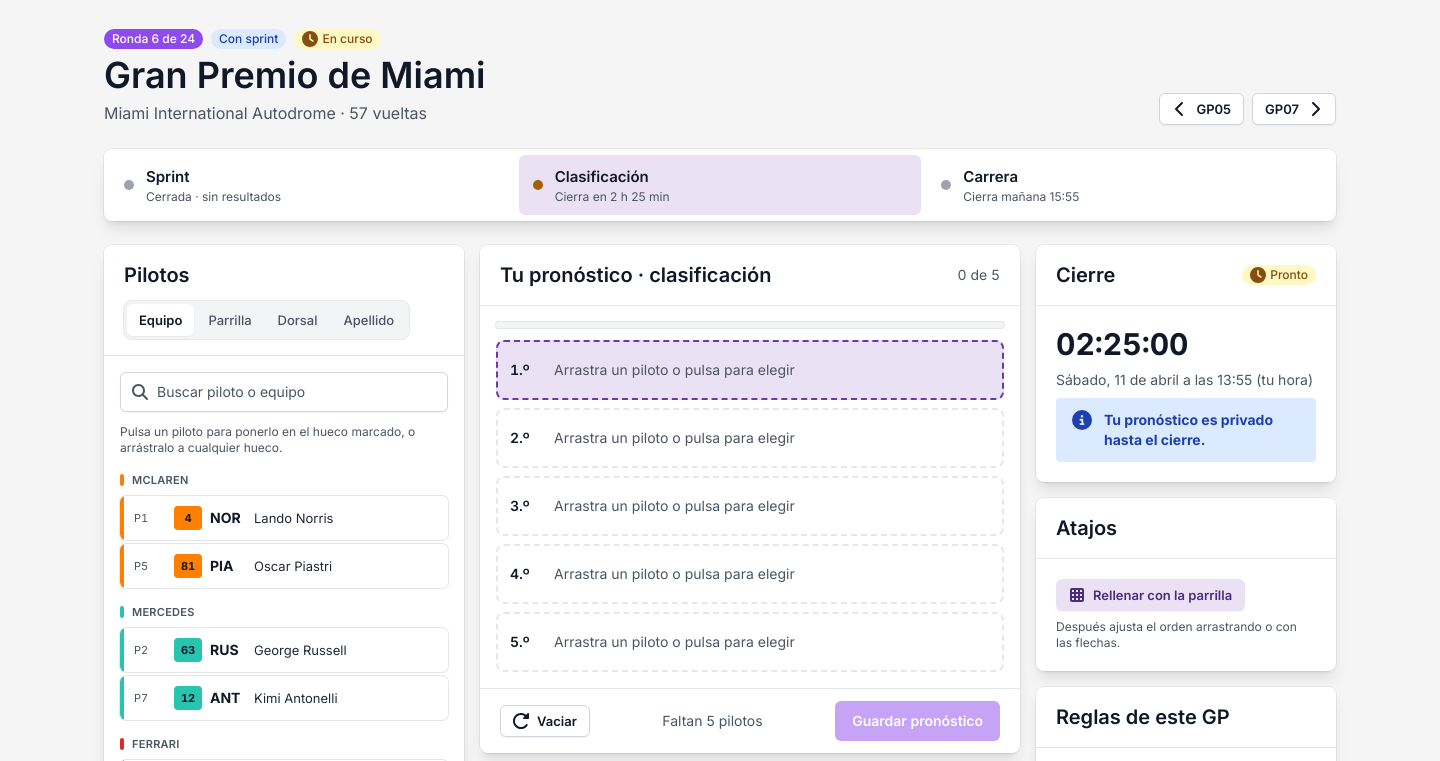
Test: Predict (G3) › clicking a driver fills the active slot and jumps to the next empty one
What coordinates should you click on to do the following:
click the button "P1 4 NOR Lando Norris"
I would click on:
 (284, 518)
Its box is [120,496,448,540].
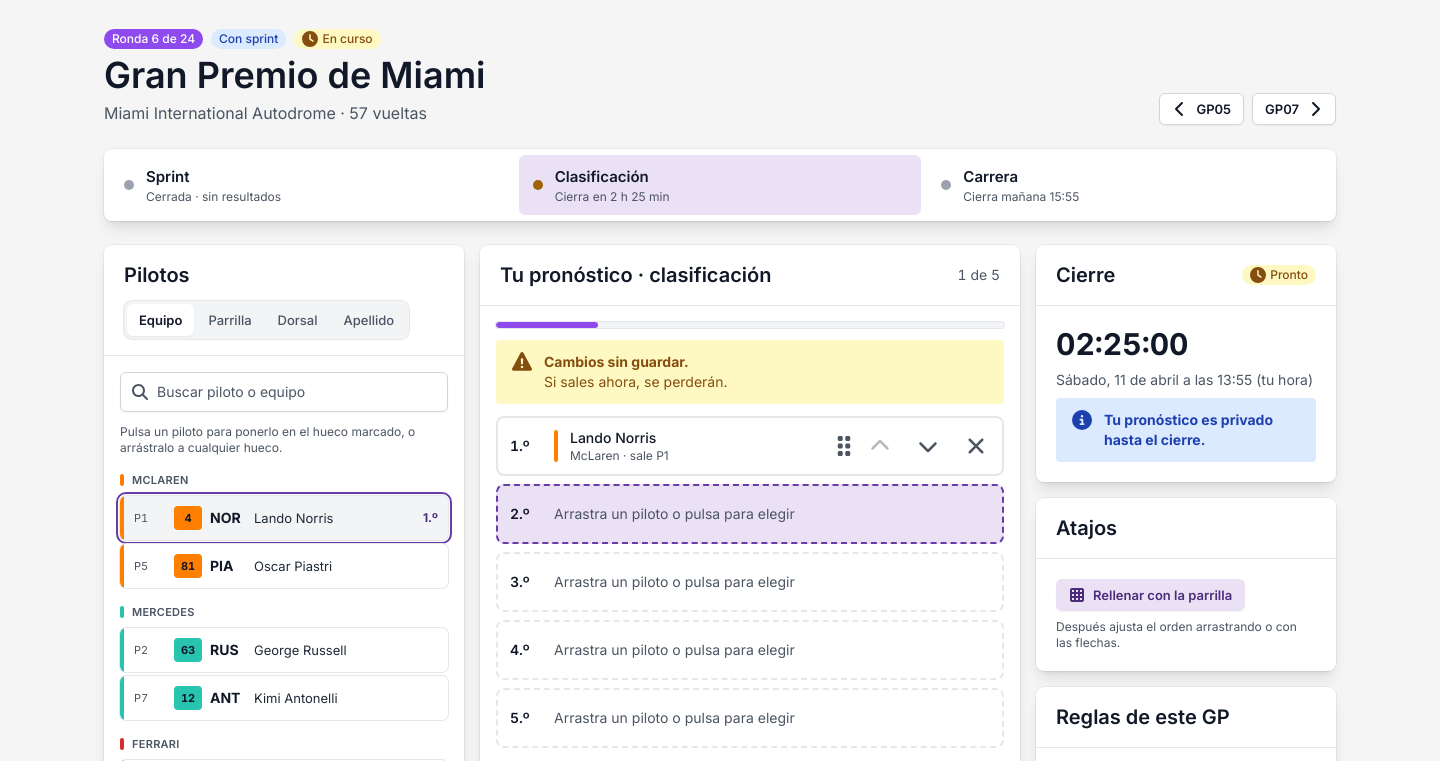
What coordinates should you click on to do the following:
click the button "P2 63 RUS George Russell"
I would click on:
 (284, 650)
Its box is [120,628,448,672].
(page scrolled)
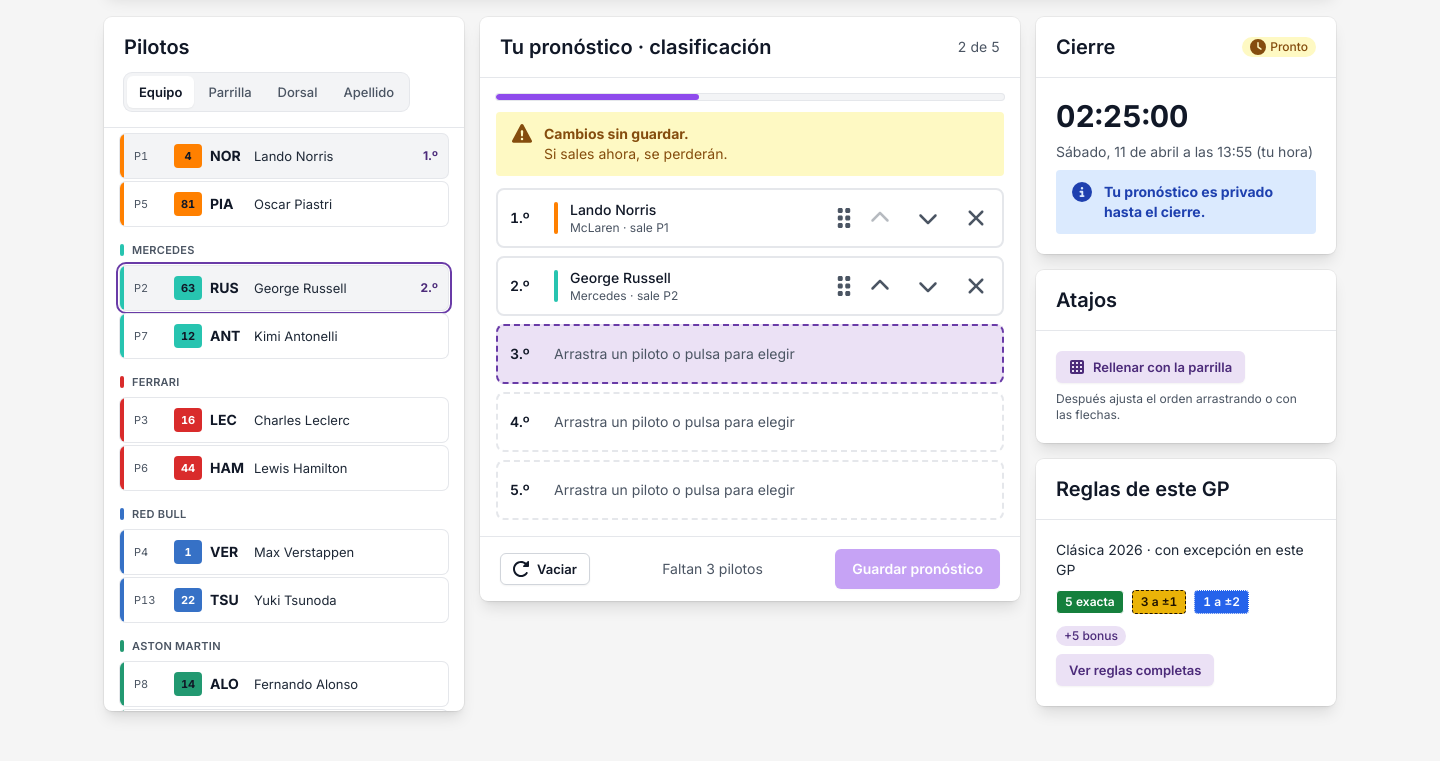
Expected: the text "Cambios sin guardar." is shown, [544,125,689,142]
Expected: the text "Faltan 3 pilotos" is shown, [662,559,763,579]
What coordinates should you click on to do the following:
click the button "P3 16 LEC Charles Leclerc"
I would click on:
 (284, 420)
Its box is [120,398,448,442].
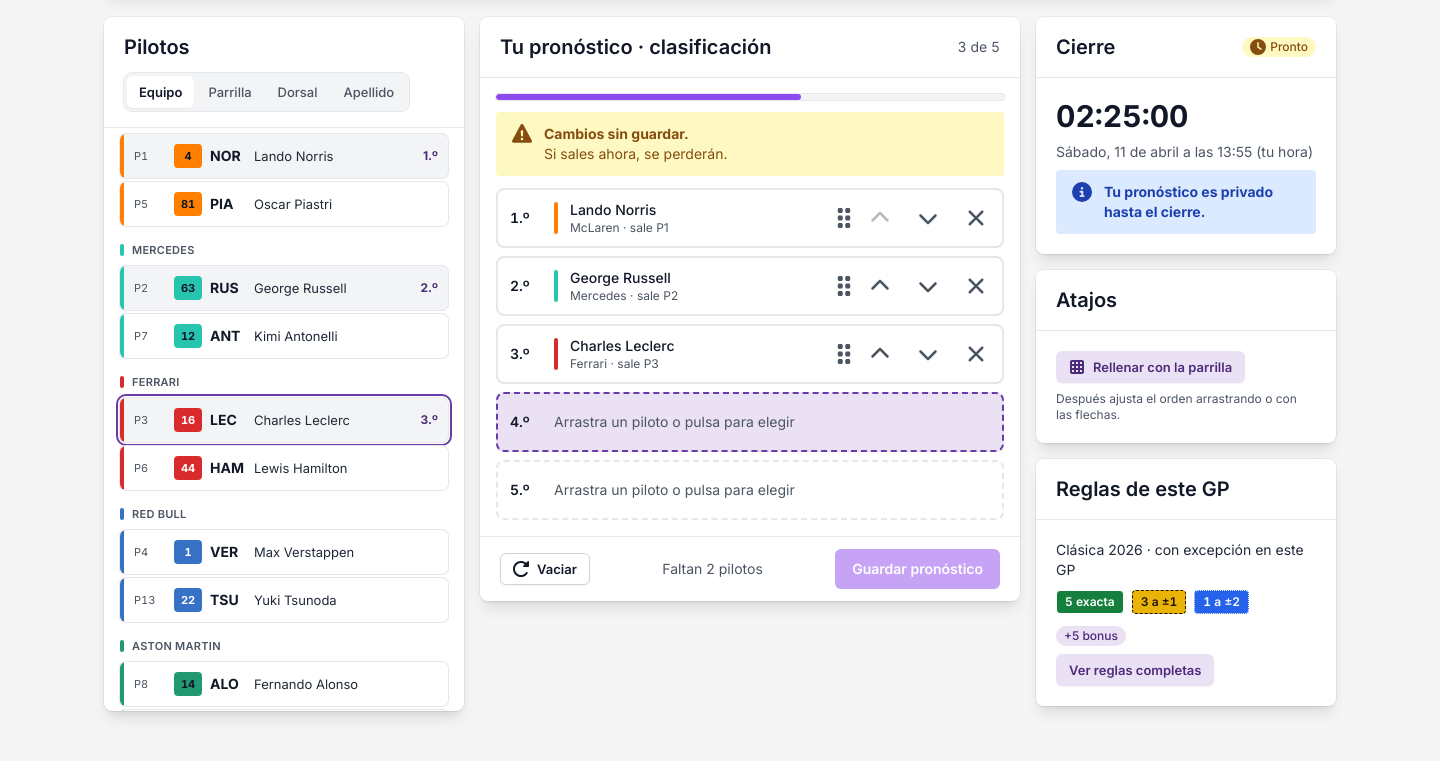
What coordinates should you click on to do the following:
click the button "P4 1 VER Max Verstappen"
I would click on:
 (284, 552)
Its box is [120,530,448,574].
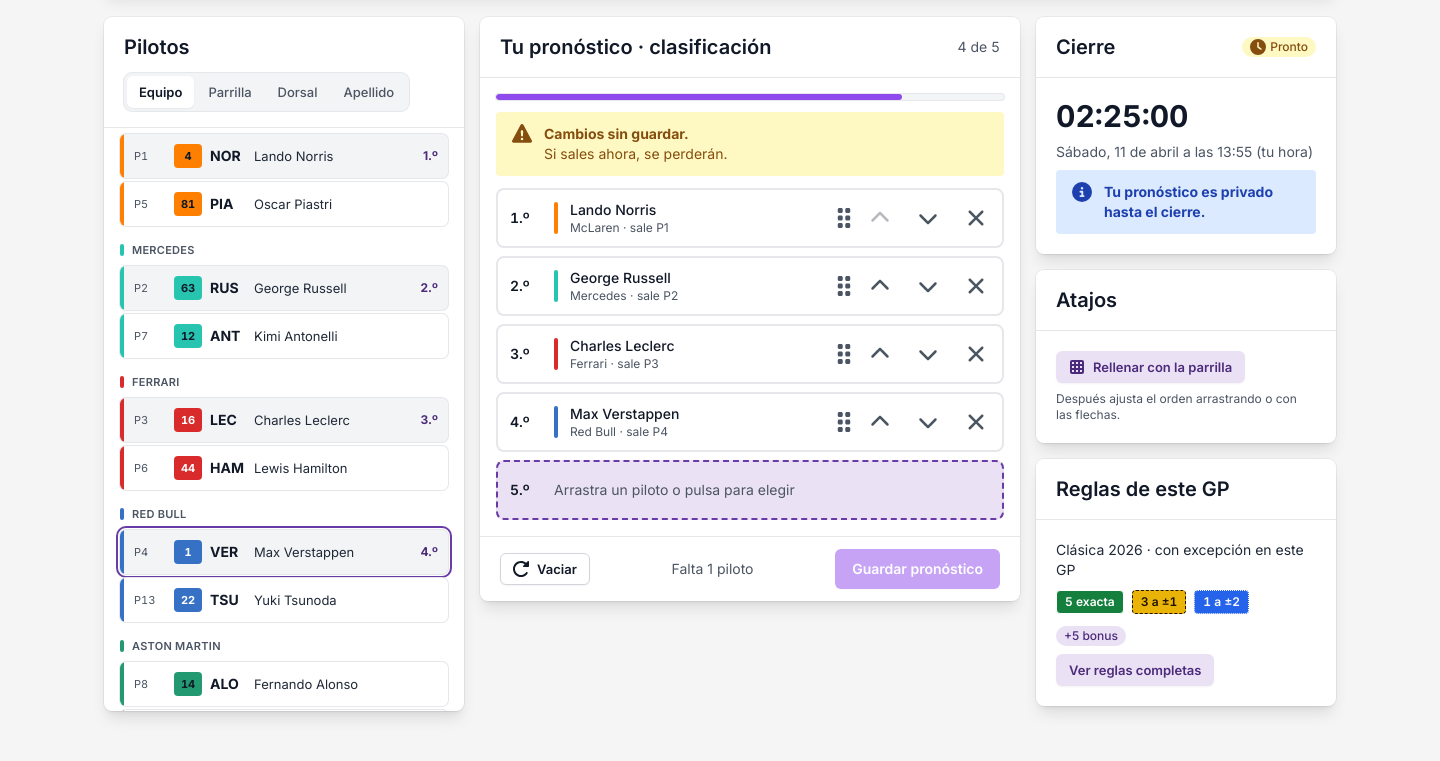
Expected: the text "Falta 1 piloto" is shown, [672,559,754,579]
